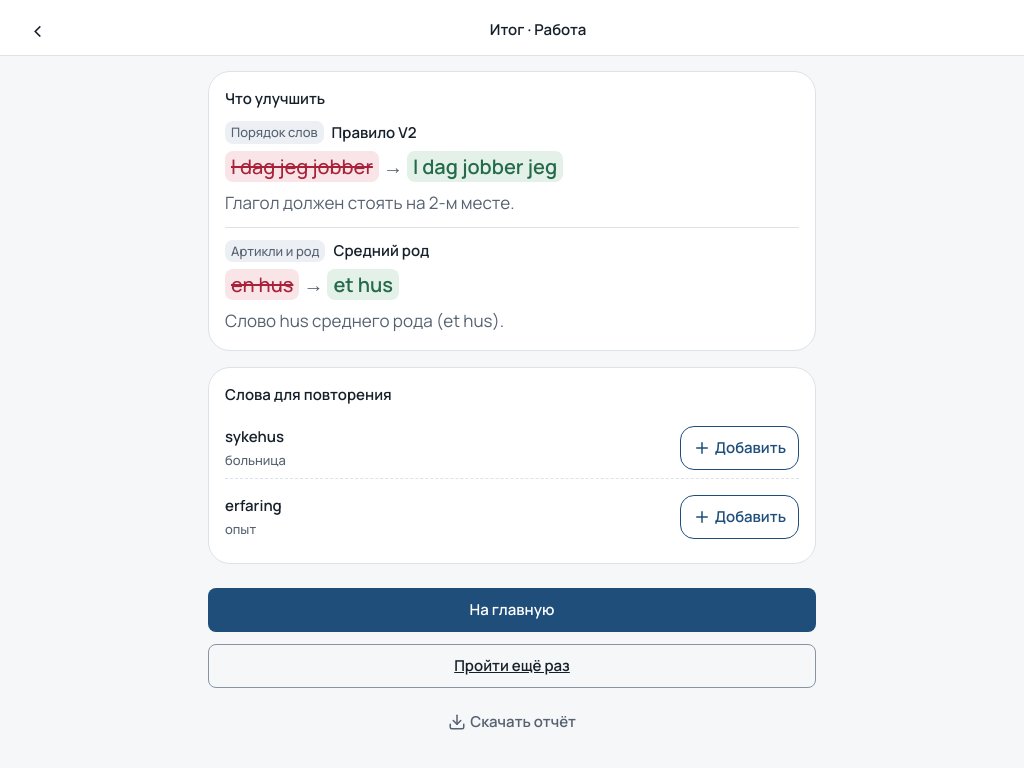
Test: ResultScreen («Итог» screen, Issue #54) › renders «Слова для повторения» and clicking «Добавить» saves word to personal deck
(page scrolled)
Check: the element with test id "resultWordsSection" is shown, box [208, 367, 816, 564]
Check: the text "sykehus" is shown, box [225, 426, 286, 447]
// Click «Добавить» on first word (sykehus)
Click the button with aria-label "Добавить слово" at point(739, 448), box [680, 426, 799, 470]
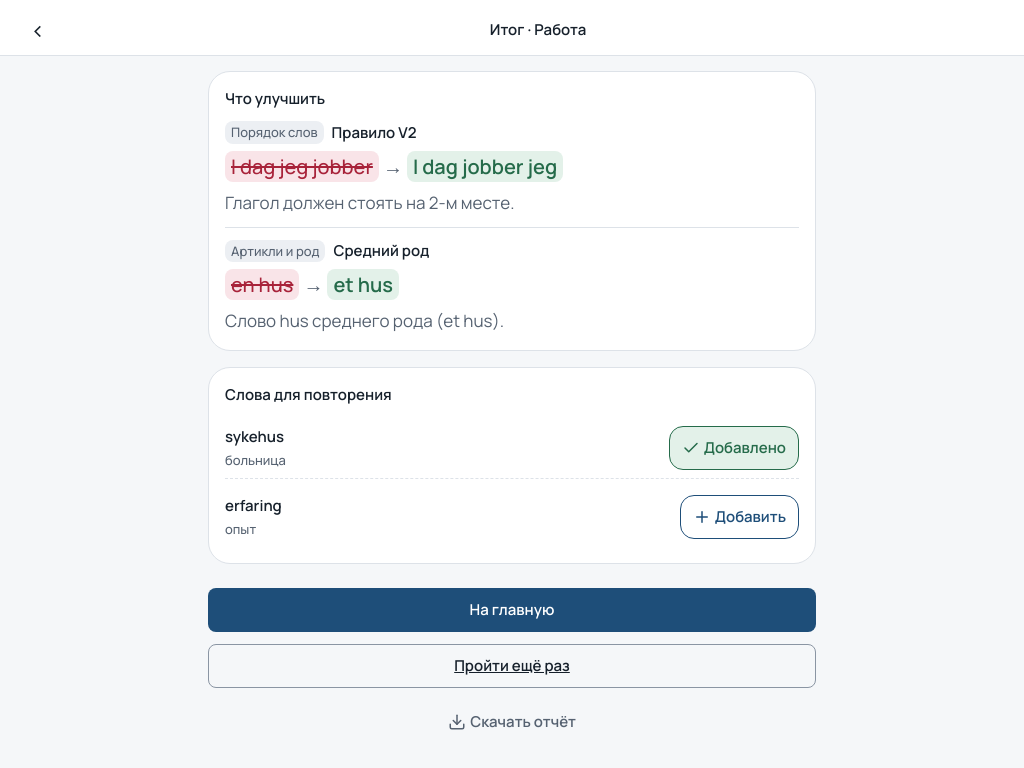
Check: the text "sykehus" is shown, box [225, 426, 286, 447]
Check: the button with aria-label "Слово «sykehus» добавлено в словарь" is disabled, box [669, 426, 799, 470]
